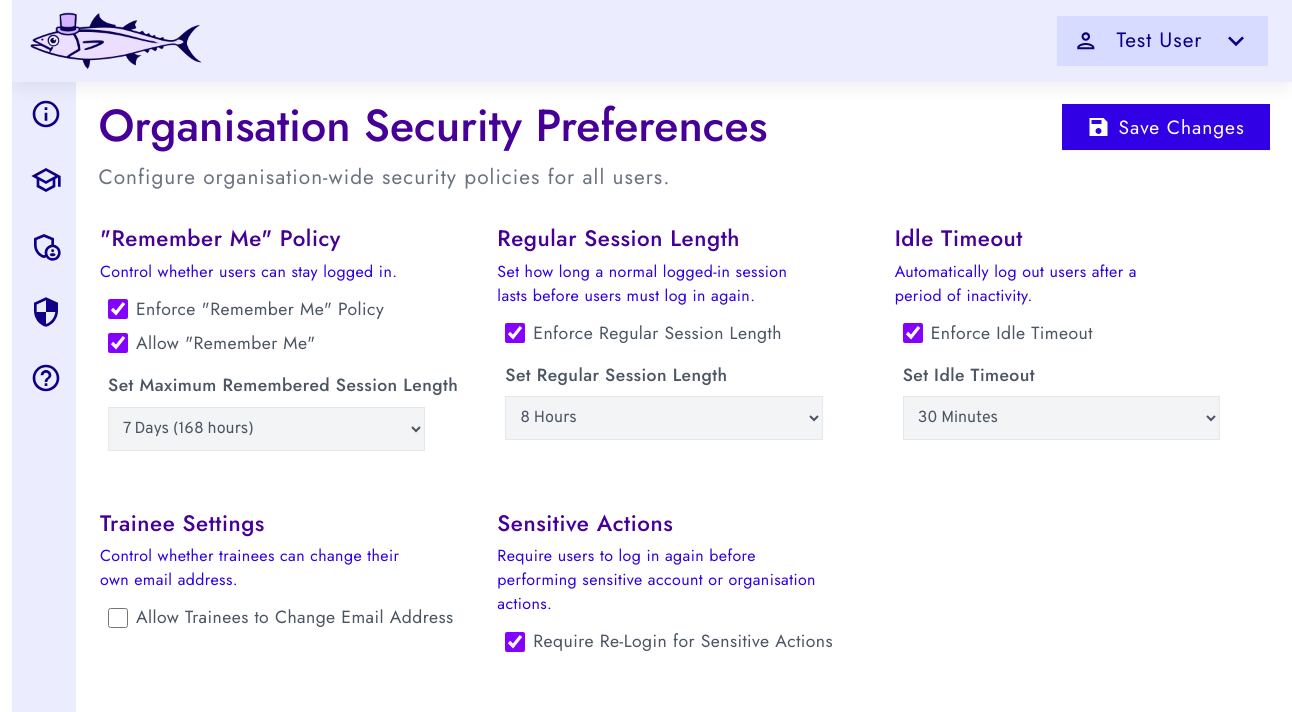
Test: OrganisationSecuritySettingsPage › handles save error status codes (401, 403, 404, 409, 422 with details, 429, general)
Click the button "Save Changes": (1166, 127) [1062,104,1270,150]
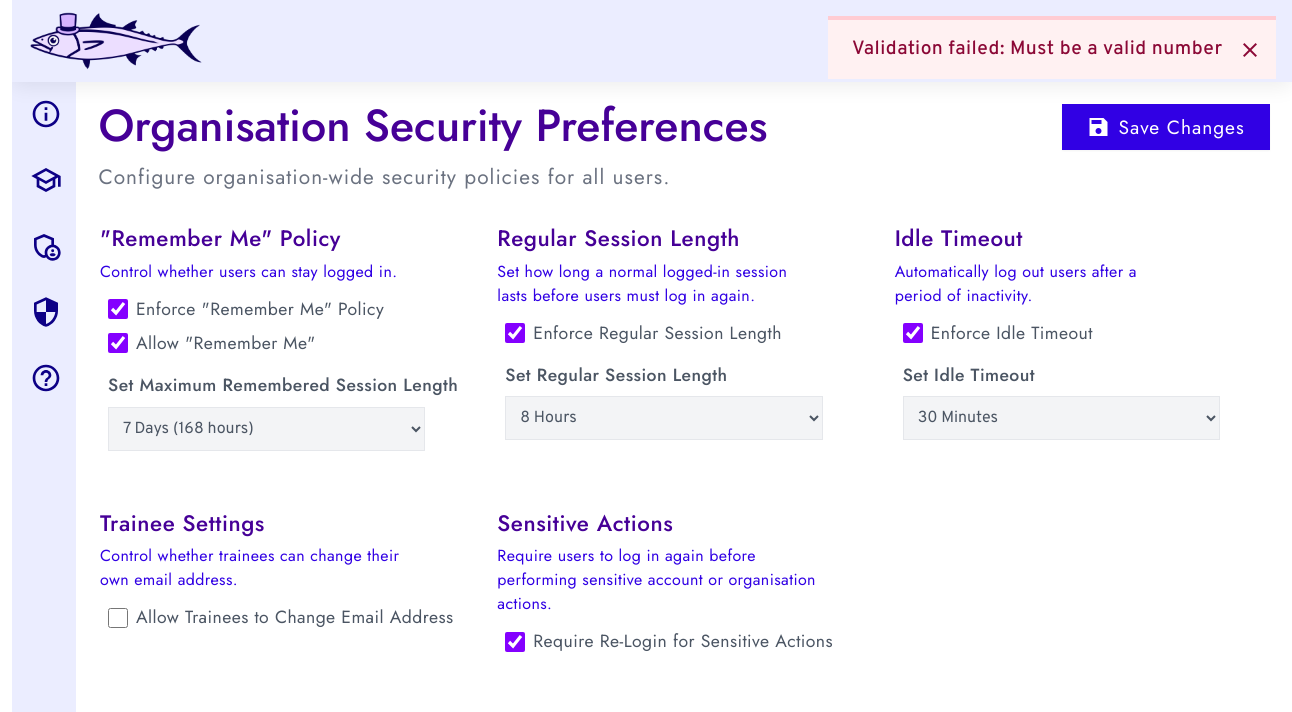
Check: the message "Validation failed: Must be a valid number" is shown, box [828,16,1276,79]
Check: the text "Validation failed: Must be a valid number" is shown, box [852,36,1222,63]
